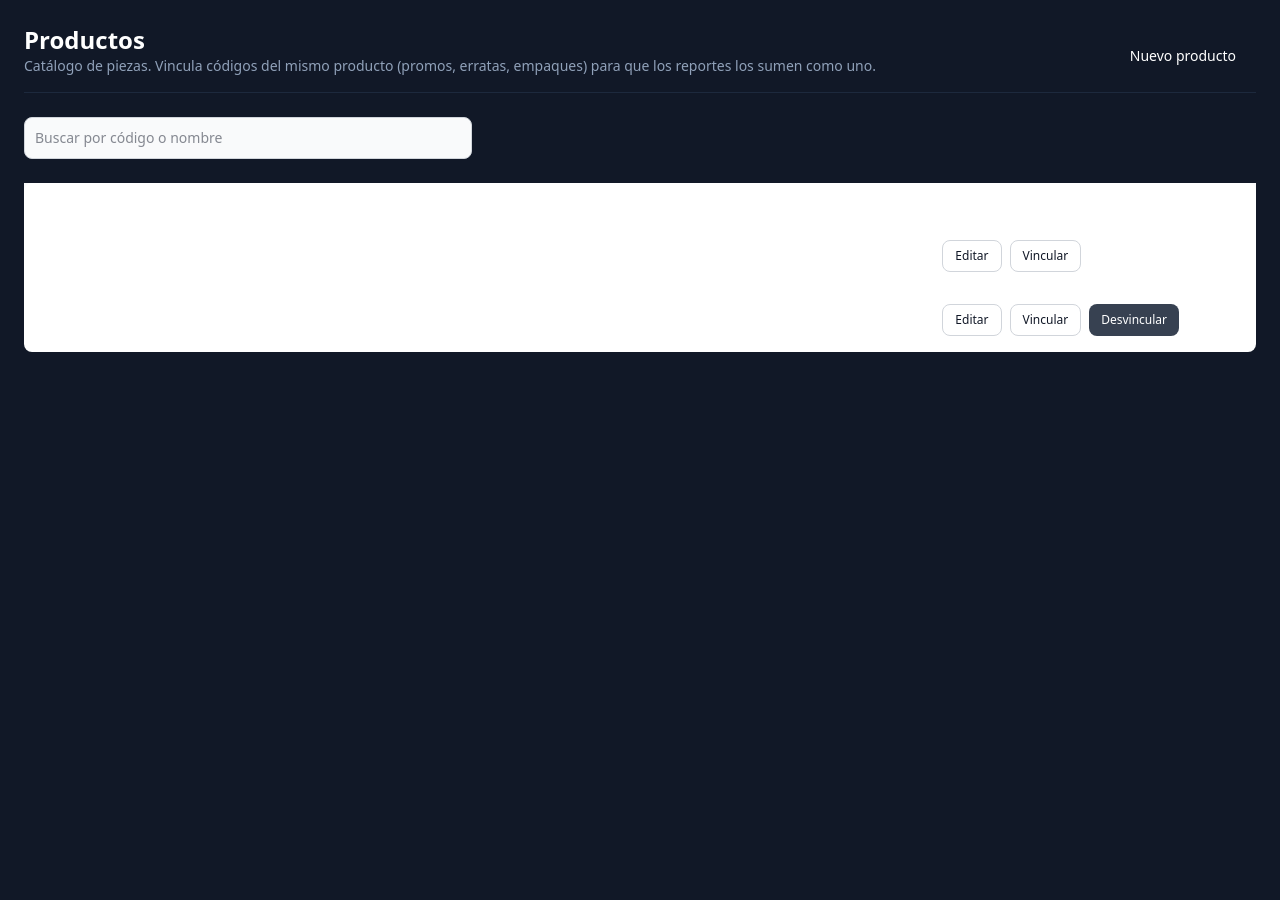
Scenario: ProductsPage › warns a variant that reports follow the principal category
Click the button "Editar" in the row of "H1": (972, 320) x1=942 y1=304 x2=1002 y2=336
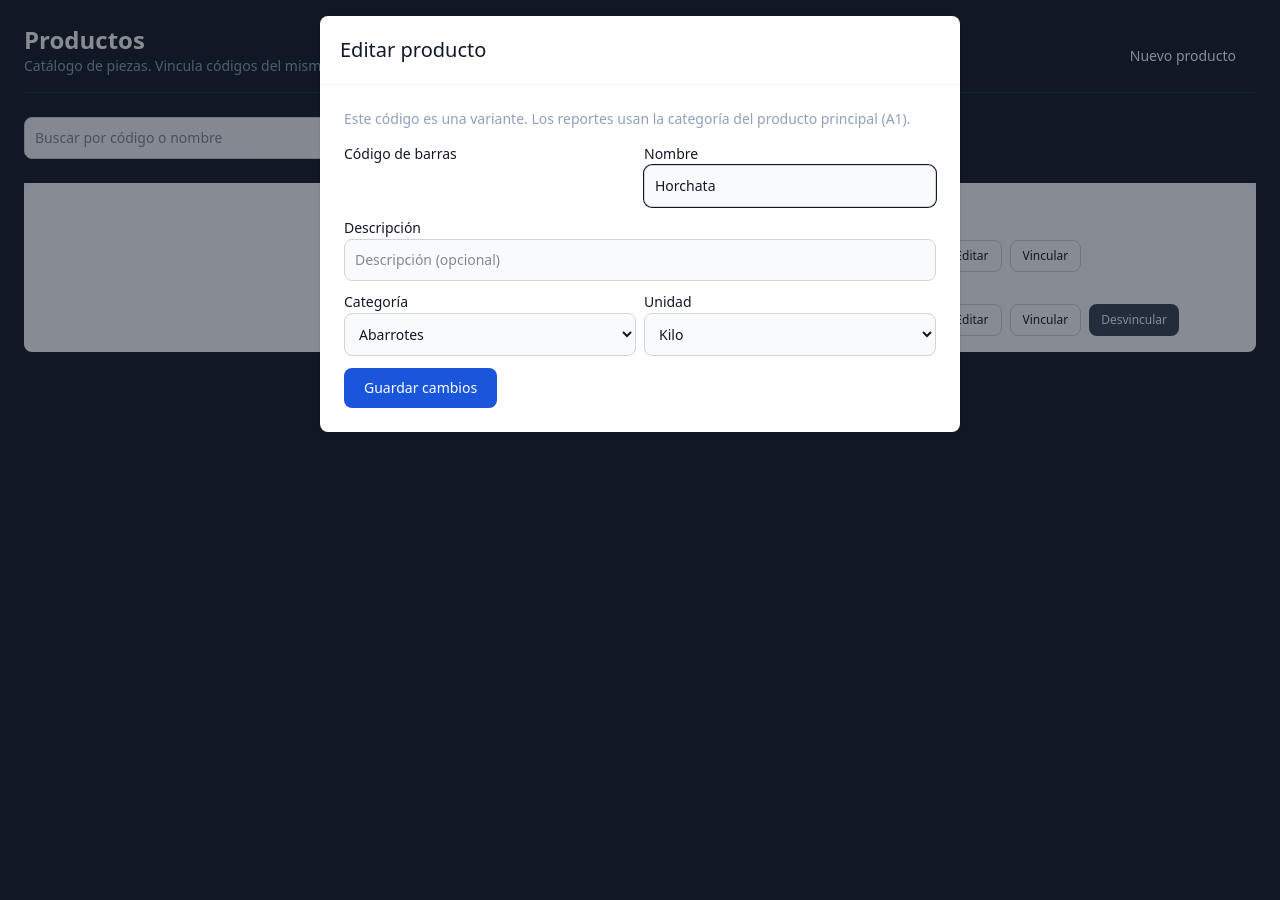
Expected: the text "Los reportes usan la categoría del producto principal (A1)" is shown, x1=344 y1=109 x2=911 y2=128
